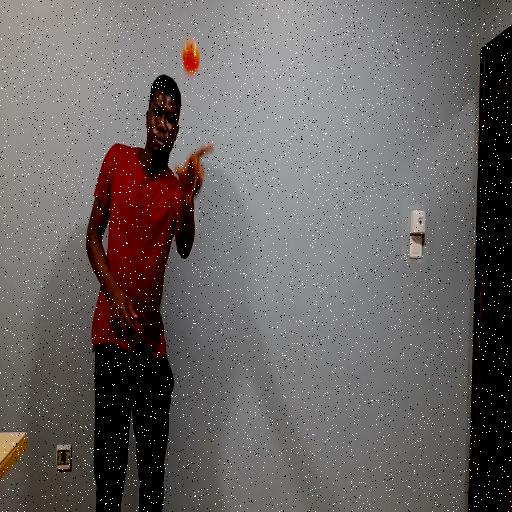plastic-ball: (180, 37, 203, 82)
